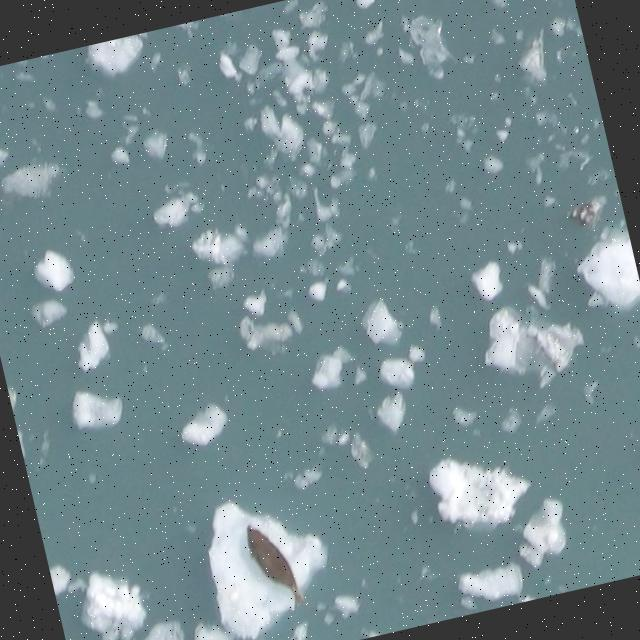seal: (247, 526, 304, 606)
